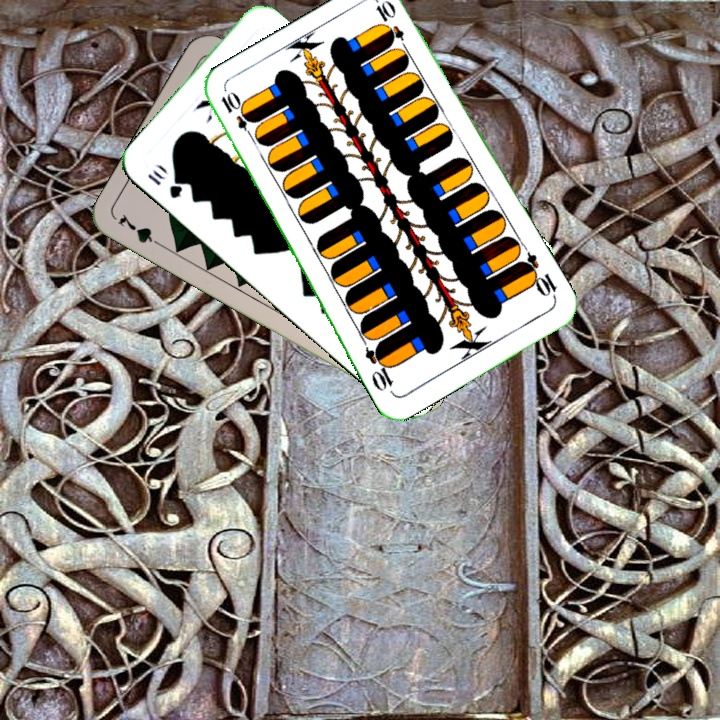E10: (515, 248, 560, 302), (216, 88, 259, 143)
G10: (143, 166, 186, 201)
G7: (114, 210, 167, 251)
